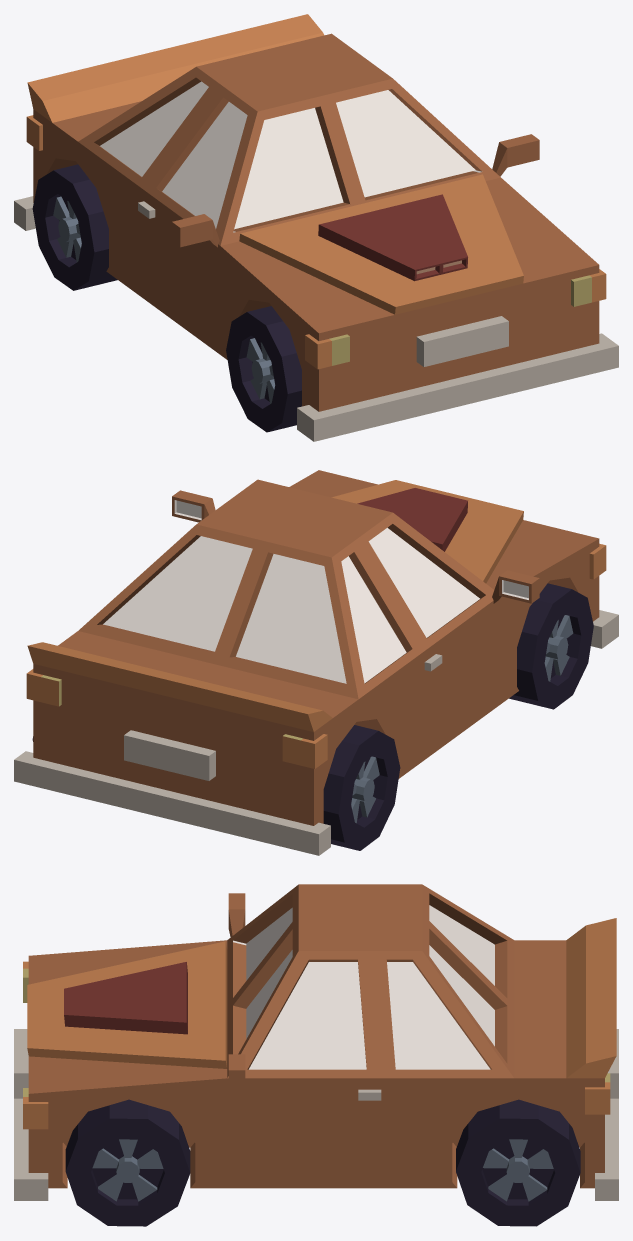
The model's file is car 14.fbx.
The picture shows the model from 3 angles, top to bottom: view 1: azimuth 30°, elevation 25°; view 2: azimuth 150°, elevation 25°; view 3: azimuth 270°, elevation 25°; orthographic projection.
Visible parts, largest first — view 1: car 7; view 2: car 7; view 3: car 7.
Boxes of the visible parts, box(x1,y1,x2,y2) form: car 7: box(14, 14, 618, 441); car 7: box(14, 470, 618, 855); car 7: box(14, 884, 618, 1226).
Size of the model in its own units: 235 by 145 by 340.
